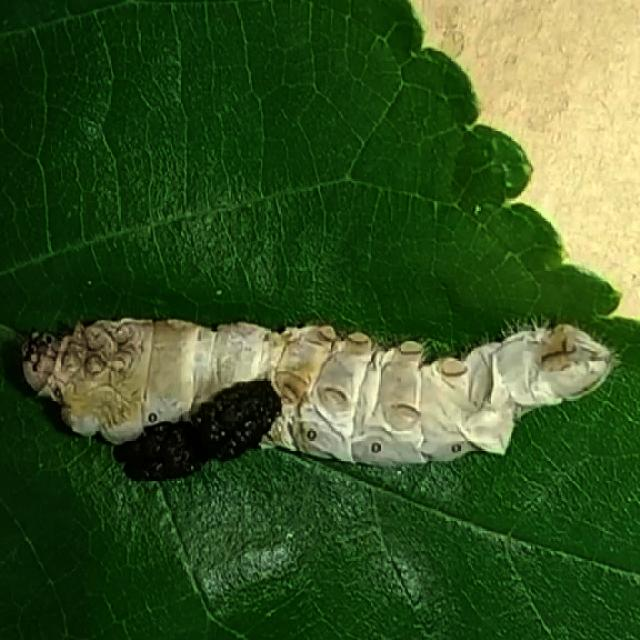Grasserie: (15, 269, 615, 477)
